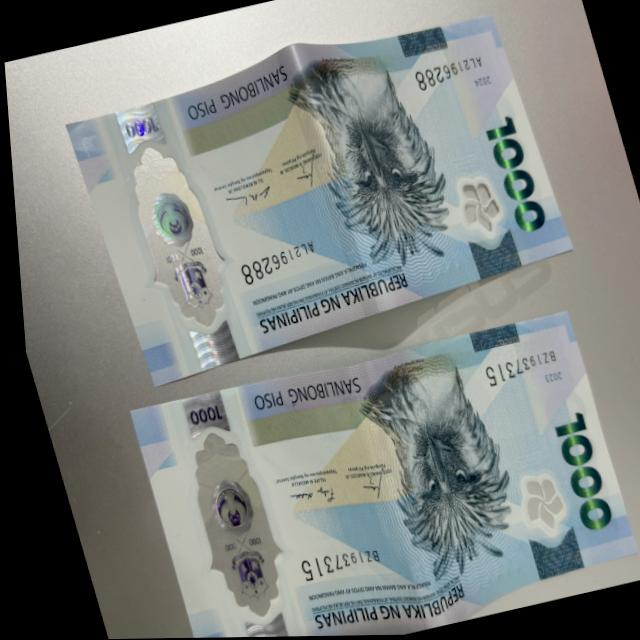clear_window: (163, 412, 291, 629), (111, 134, 228, 338)
eagle: (359, 352, 516, 585), (294, 45, 451, 265)
sampaguita: (453, 173, 503, 238), (513, 475, 561, 535)
